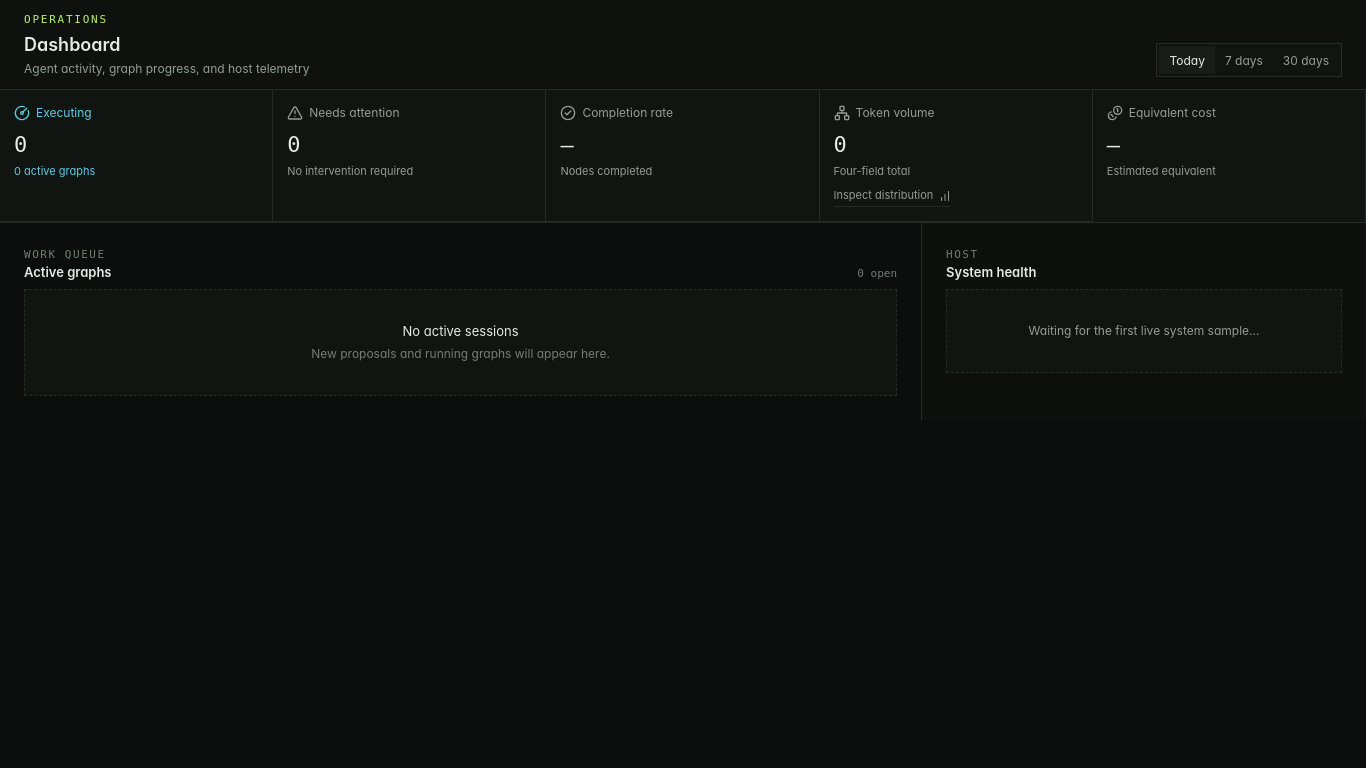
Test: dashboard route › renders empty usage without inventing cost
Check: the text "No active sessions" is shown, box [402,324,518,340]
Click the button "Inspect distribution": {"x": 892, "y": 197} [834,188,951,207]
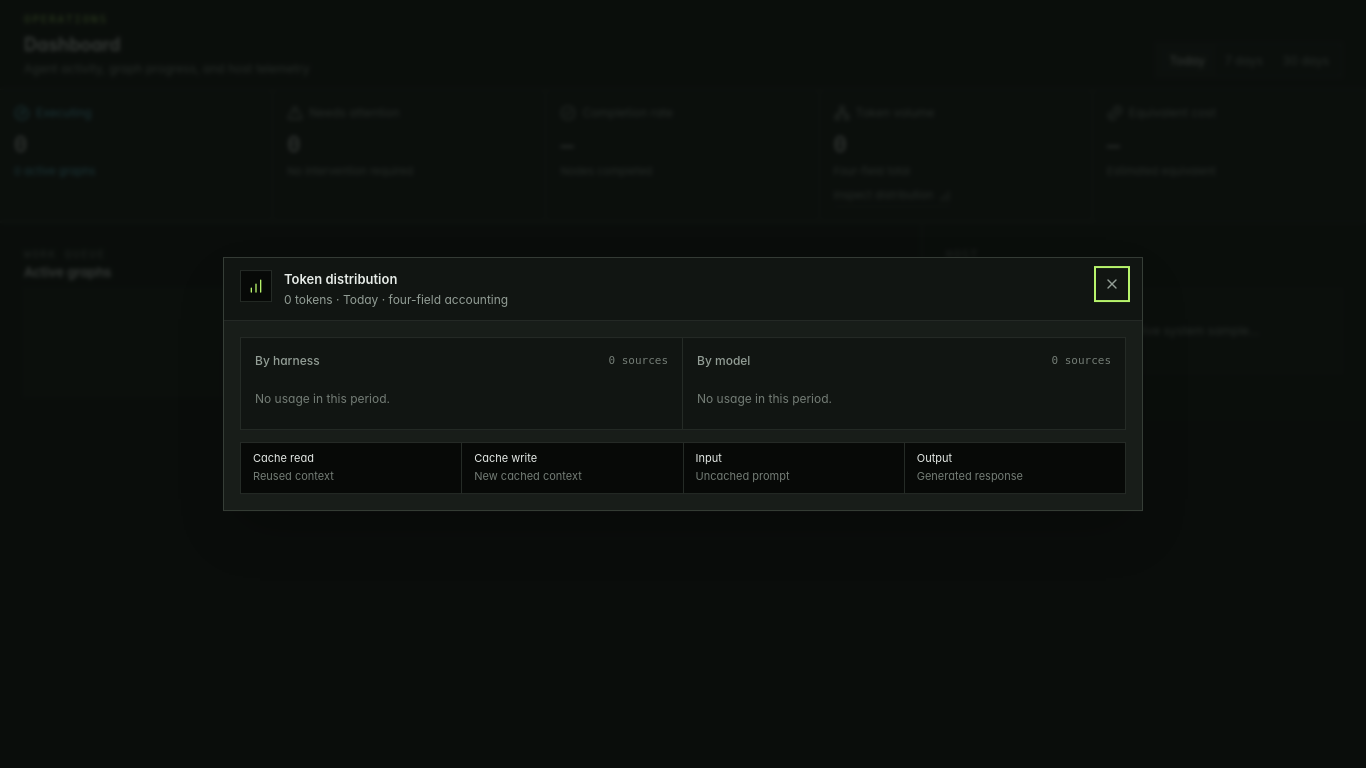
Check: the dialog "Token distribution" is shown, box [223,257,1143,511]
Check: the text "No usage in this period." is shown 2 times, box [255,391,390,406]; [697,391,832,406]
